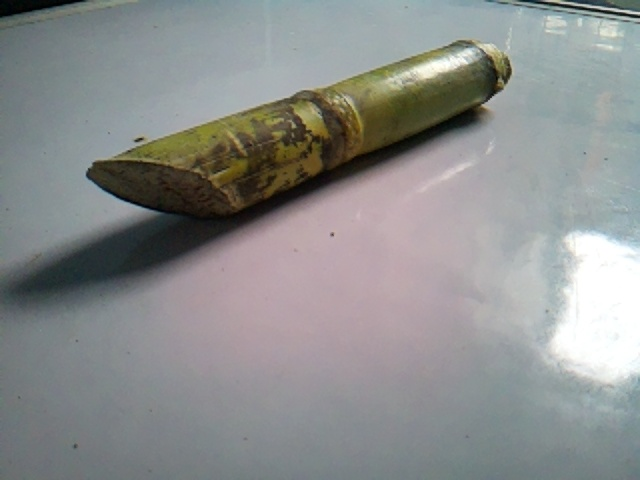Good Sugarcane: (87, 36, 510, 220)
Node: (297, 87, 374, 169)
